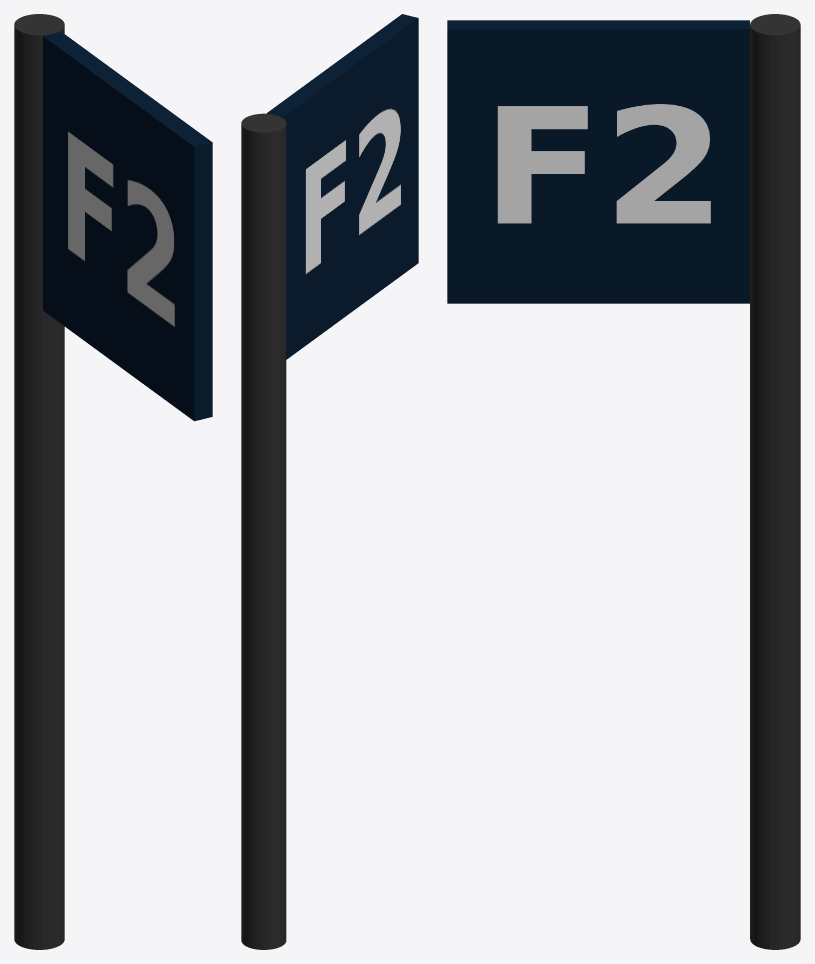
Rendered from start_flag.dae.
3 views of the same model, side by side, from view 1: azimuth 30°, elevation 25°; view 2: azimuth 150°, elevation 25°; view 3: azimuth 270°, elevation 25° (orthographic). The views are drawn at different scales.
Parts seen in each view (by area): view 1: flag; view 2: flag; view 3: flag.
Part boxes in pixels (box(x1,y1,x2,y2)): flag: box(14, 14, 212, 949); flag: box(241, 14, 418, 949); flag: box(447, 14, 800, 949).
Bounding box in the file's own units: 0.1 × 0.7 × 2.
Materials: 2 (1 with a texture image).
